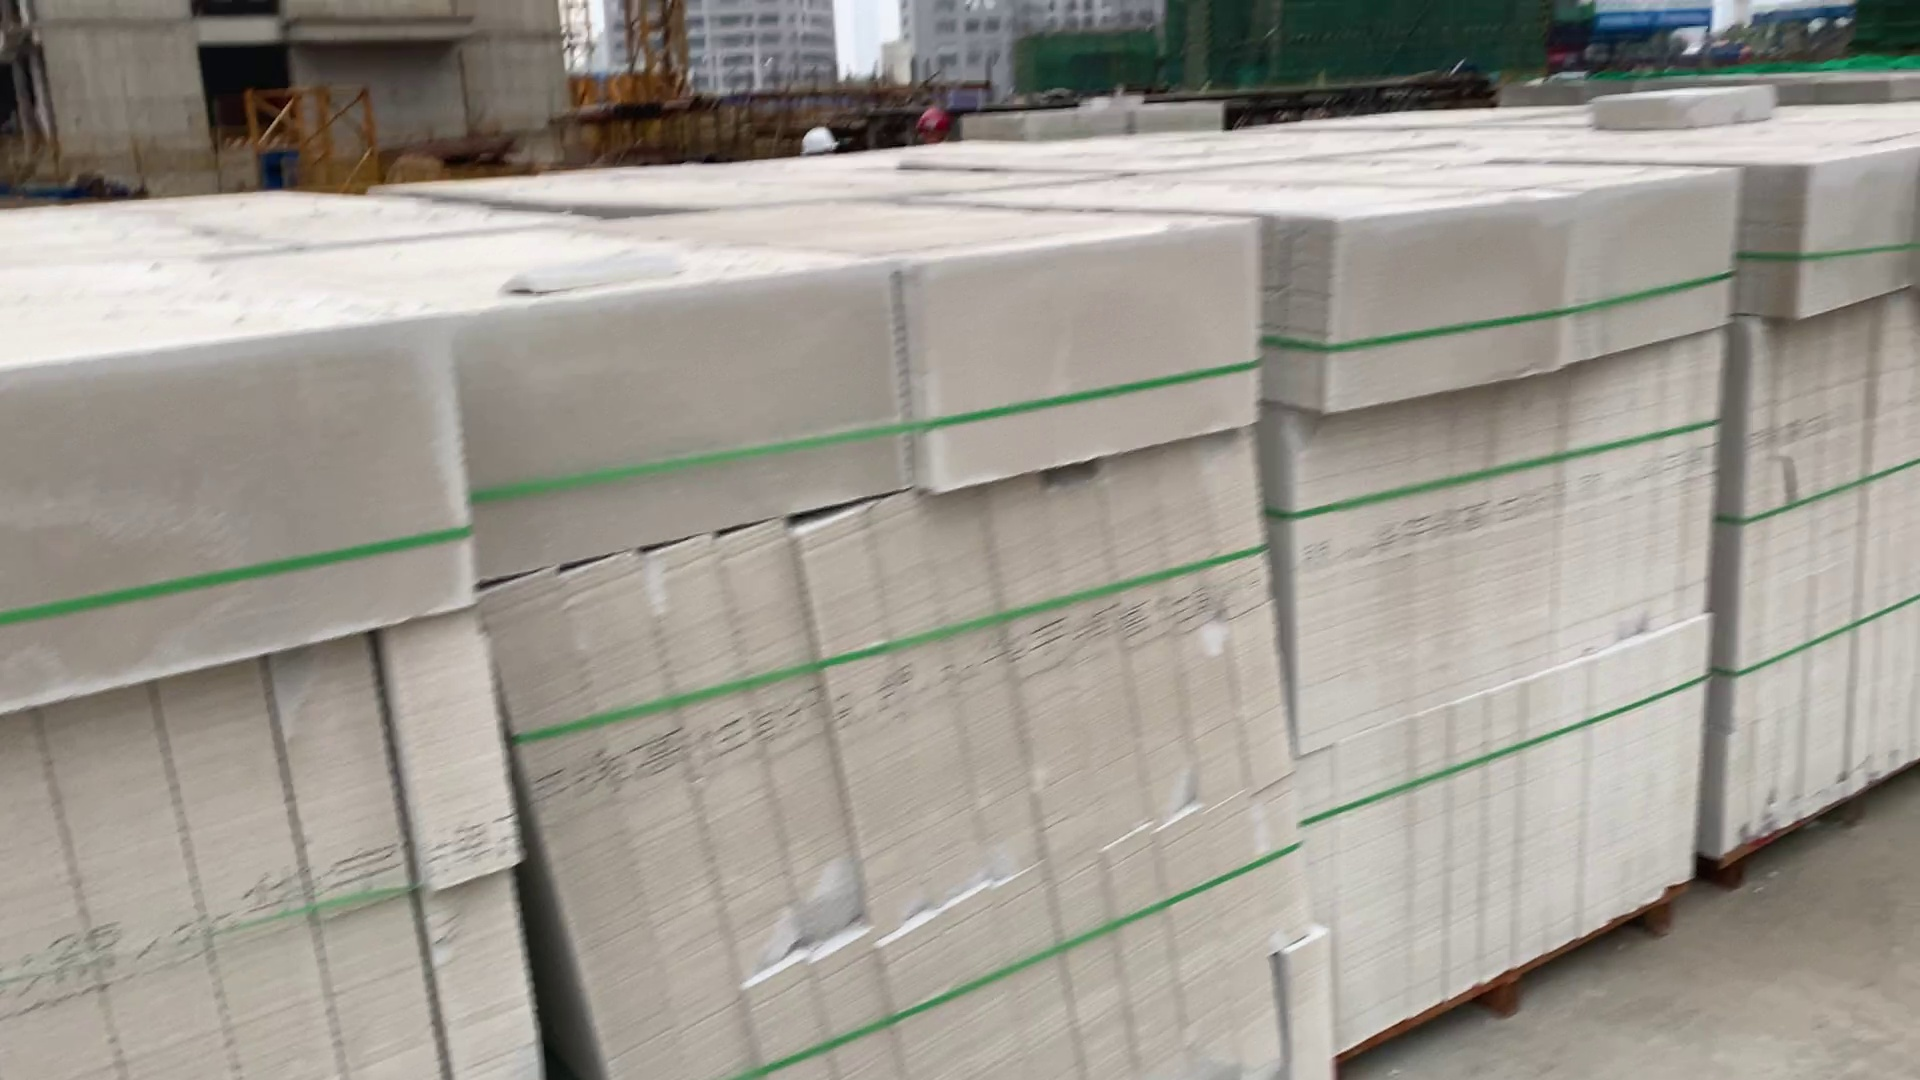brickwork: (481, 193, 1317, 1080), (7, 204, 501, 1080), (1311, 173, 1696, 1048), (1720, 162, 1920, 891)
